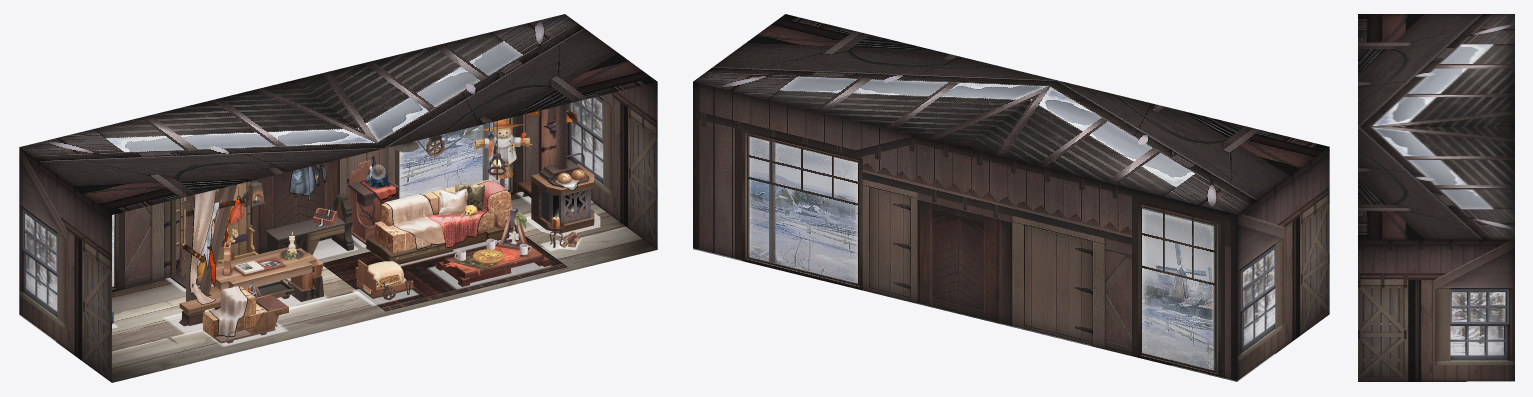
Rendered from talulahCabin.glb.
The picture shows the model from 3 angles, left to right: view 1: azimuth 30°, elevation 25°; view 2: azimuth 150°, elevation 25°; view 3: azimuth 270°, elevation 25°; orthographic projection. The views are drawn at different scales.
Parts seen in each view (by area): view 1: ROOM_room, ROOM_floor, furni_talulahCabin_longTable_01, furni_talulahCabin_carpet_01, furni_talulahCabin_sofa_02, furni_talulahCabin_sofa_03, furni_talulahCabin_toolRack_02.001, furni_talulahCabin_bench_01, furni_talulahCabin_coffeeTable_01, furni_talulahCabin_longTable_02, furni_talulahCabin_fireplace_03, furni_talulahCabin_cabinet_01 (+17 smaller); view 2: ROOM_room, ROOM_LDoor; view 3: ROOM_room, ROOM_RDoor.
Boxes of the visible parts, <box> form: ROOM_room: <box>19,14,657,382</box>; ROOM_floor: <box>112,192,657,382</box>; furni_talulahCabin_longTable_01: <box>179,179,323,326</box>; furni_talulahCabin_carpet_01: <box>323,231,566,311</box>; furni_talulahCabin_sofa_02: <box>374,179,512,253</box>; furni_talulahCabin_sofa_03: <box>383,180,508,249</box>; furni_talulahCabin_toolRack_02.001: <box>169,180,258,288</box>; furni_talulahCabin_bench_01: <box>265,193,353,255</box>; furni_talulahCabin_coffeeTable_01: <box>436,207,551,286</box>; furni_talulahCabin_longTable_02: <box>182,189,298,304</box>; furni_talulahCabin_fireplace_03: <box>539,104,590,223</box>; furni_talulahCabin_cabinet_01: <box>348,155,399,244</box>; ROOM_room: <box>693,14,1329,381</box>; ROOM_LDoor: <box>1297,248,1315,337</box>; ROOM_room: <box>1358,14,1514,381</box>; ROOM_RDoor: <box>1381,317,1413,381</box>.
Size of the model in its own units: 7.59 by 2.2 by 2.26.
Materials: 8 (8 with a texture image).
